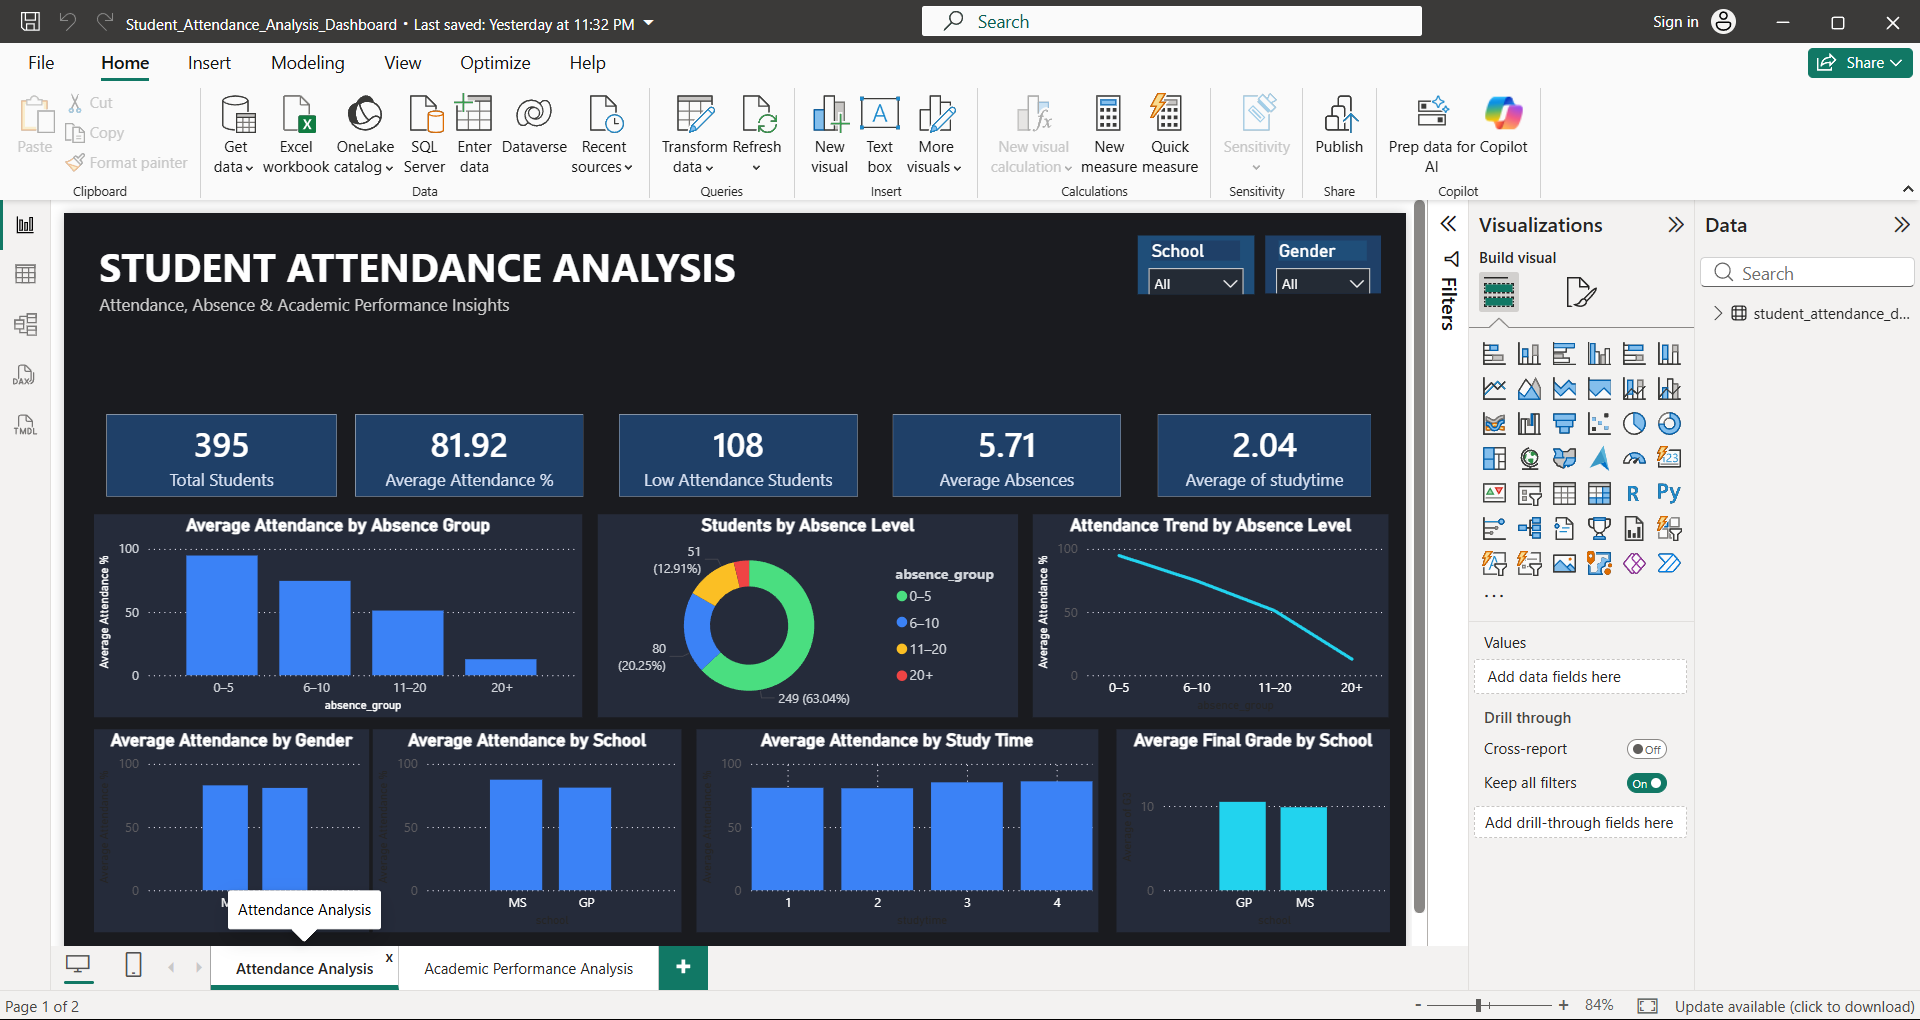

What the dashboard file says about the page in this screenshot:
{"tool":"powerbi","page":{"name":"Page 1","canvas":[1280,720],"ordinal":0},"visuals":[{"type":"cardVisual","fields":{"Data":["Avg(student_attendance_dashboard.studytime)"]},"box":[1026.3,175.2,237.2,112.1],"z":0},{"type":"clusteredColumnChart","title":"Average Attendance by School","fields":{"Category":["student_attendance_dashboard.school"],"Y":["student_attendance_dashboard.Average Attendance %"]},"box":[294.5,492.2,294.5,193.5],"z":1000},{"type":"clusteredColumnChart","title":"Average Attendance by Gender","fields":{"Category":["student_attendance_dashboard.sex"],"Y":["student_attendance_dashboard.Average Attendance %"]},"box":[28,492.2,262.2,193.5],"z":2000},{"type":"donutChart","title":"Students by Absence Level","fields":{"Category":["student_attendance_dashboard.absence_group"],"Y":["CountNonNull(student_attendance_dashboard.age)"]},"box":[509,287.5,401.1,193.5],"z":3000},{"type":"clusteredColumnChart","title":"Average Attendance by Study Time","fields":{"Category":["student_attendance_dashboard.studytime"],"Y":["student_attendance_dashboard.Average Attendance %"]},"box":[603,492.2,382.8,193.5],"z":4000},{"type":"lineChart","title":"Attendance Trend by Absence Level","fields":{"Y":["student_attendance_dashboard.Average Attendance %"],"Category":["student_attendance_dashboard.absence_group"]},"box":[924.1,287.5,339.4,193.5],"z":5000},{"type":"clusteredColumnChart","title":"Average Attendance by Absence Group","fields":{"Y":["student_attendance_dashboard.Average Attendance %"],"Category":["student_attendance_dashboard.absence_group"]},"box":[28,287.5,465.6,193.5],"z":6000},{"type":"clusteredColumnChart","title":"Average Final Grade by School","fields":{"Category":["student_attendance_dashboard.school"],"Y":["Avg(student_attendance_dashboard.G3)"]},"box":[1004,492.2,260.8,193.5],"z":7000},{"type":"cardVisual","fields":{"Data":["student_attendance_dashboard.Average Absences"]},"box":[773.6,175.2,251.5,112.1],"z":8000},{"type":"cardVisual","fields":{"Data":["student_attendance_dashboard.Average Attendance %"]},"box":[261.1,175.2,251.5,112.1],"z":9000},{"type":"cardVisual","fields":{"Data":["student_attendance_dashboard.Low Attendance Students"]},"box":[512.6,175.2,261.1,112.1],"z":10000},{"type":"cardVisual","fields":{"Data":["student_attendance_dashboard.Total Students"]},"box":[23.8,175.2,253.9,112.1],"z":11000},{"type":"textbox","box":[28.6,21.5,942.9,91.8],"z":12000},{"type":"slicer","fields":{"Values":["student_attendance_dashboard.sex"]},"box":[1145.5,21.5,110,54.8],"z":13000},{"type":"slicer","fields":{"Values":["student_attendance_dashboard.school"]},"box":[1024,21.5,110.9,56],"z":14000}]}

Visuals, with their boxes on the page's 1280x720 design canvas (x1, y1, x2, y2). These are canvas units, not pixel positions in the 1920x1020 screenshot, which may show the page scaled, cropped or inside an application window:
cardVisual - Avg(student_attendance_dashboard.studytime): pyautogui.locateOnScreen(1026, 175, 1264, 287)
"Average Attendance by School" clusteredColumnChart: pyautogui.locateOnScreen(294, 492, 589, 686)
"Average Attendance by Gender" clusteredColumnChart: pyautogui.locateOnScreen(28, 492, 290, 686)
"Students by Absence Level" donutChart: pyautogui.locateOnScreen(509, 288, 910, 481)
"Average Attendance by Study Time" clusteredColumnChart: pyautogui.locateOnScreen(603, 492, 986, 686)
"Attendance Trend by Absence Level" lineChart: pyautogui.locateOnScreen(924, 288, 1264, 481)
"Average Attendance by Absence Group" clusteredColumnChart: pyautogui.locateOnScreen(28, 288, 494, 481)
"Average Final Grade by School" clusteredColumnChart: pyautogui.locateOnScreen(1004, 492, 1265, 686)
cardVisual - student_attendance_dashboard.Average Absences: pyautogui.locateOnScreen(774, 175, 1025, 287)
cardVisual - student_attendance_dashboard.Average Attendance %: pyautogui.locateOnScreen(261, 175, 513, 287)
cardVisual - student_attendance_dashboard.Low Attendance Students: pyautogui.locateOnScreen(513, 175, 774, 287)
cardVisual - student_attendance_dashboard.Total Students: pyautogui.locateOnScreen(24, 175, 278, 287)
textbox: pyautogui.locateOnScreen(29, 22, 972, 113)
slicer - student_attendance_dashboard.sex: pyautogui.locateOnScreen(1146, 22, 1256, 76)
slicer - student_attendance_dashboard.school: pyautogui.locateOnScreen(1024, 22, 1135, 78)
